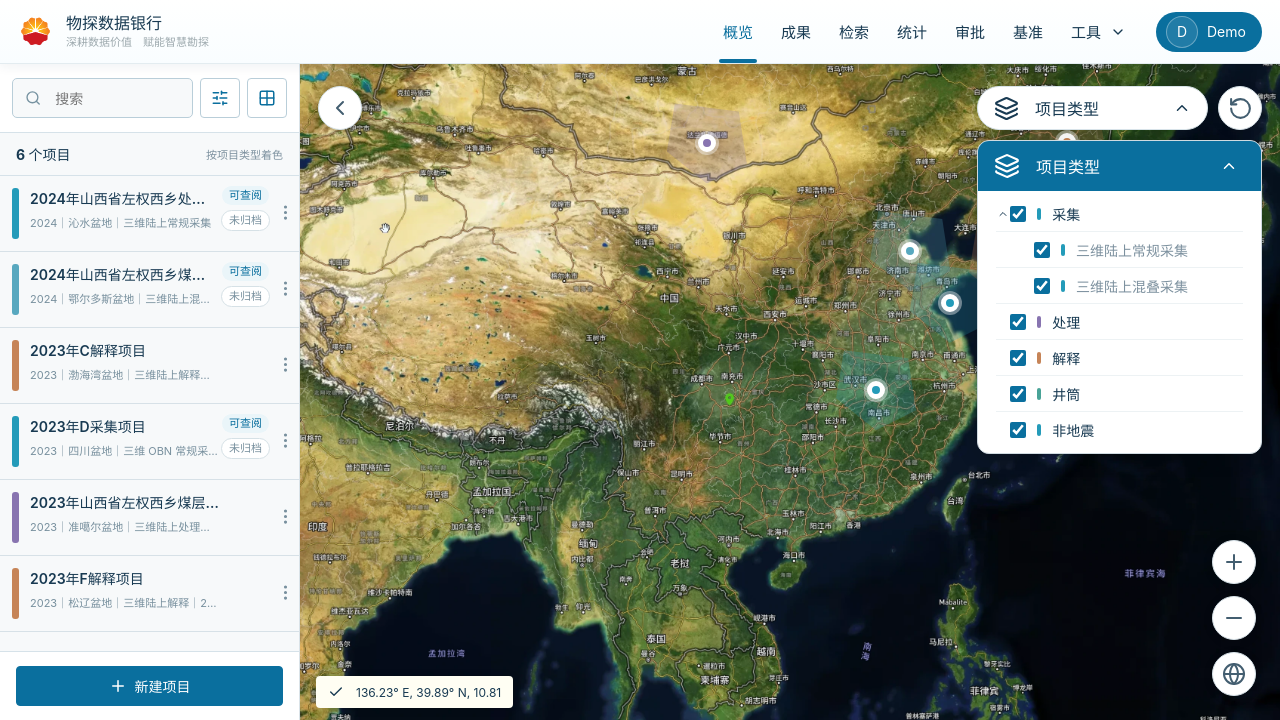
Scenario: 概览与跨页面流程 › 配色页及图层收起保持无卡片权限标签
Click the button named "配色方式" at (267, 98), box [247, 78, 287, 118]
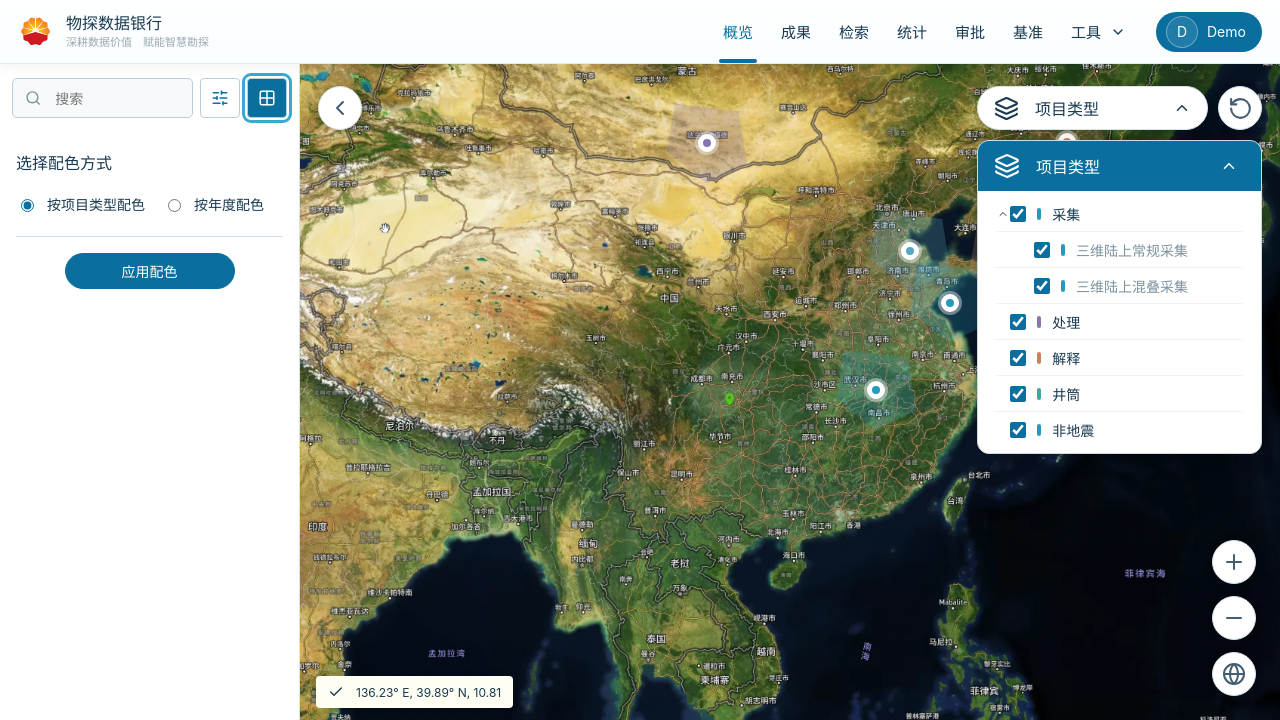
Result: the button "可查阅" is gone
Click the button named "收起项目类型" at (1229, 166), box [1213, 150, 1245, 182]
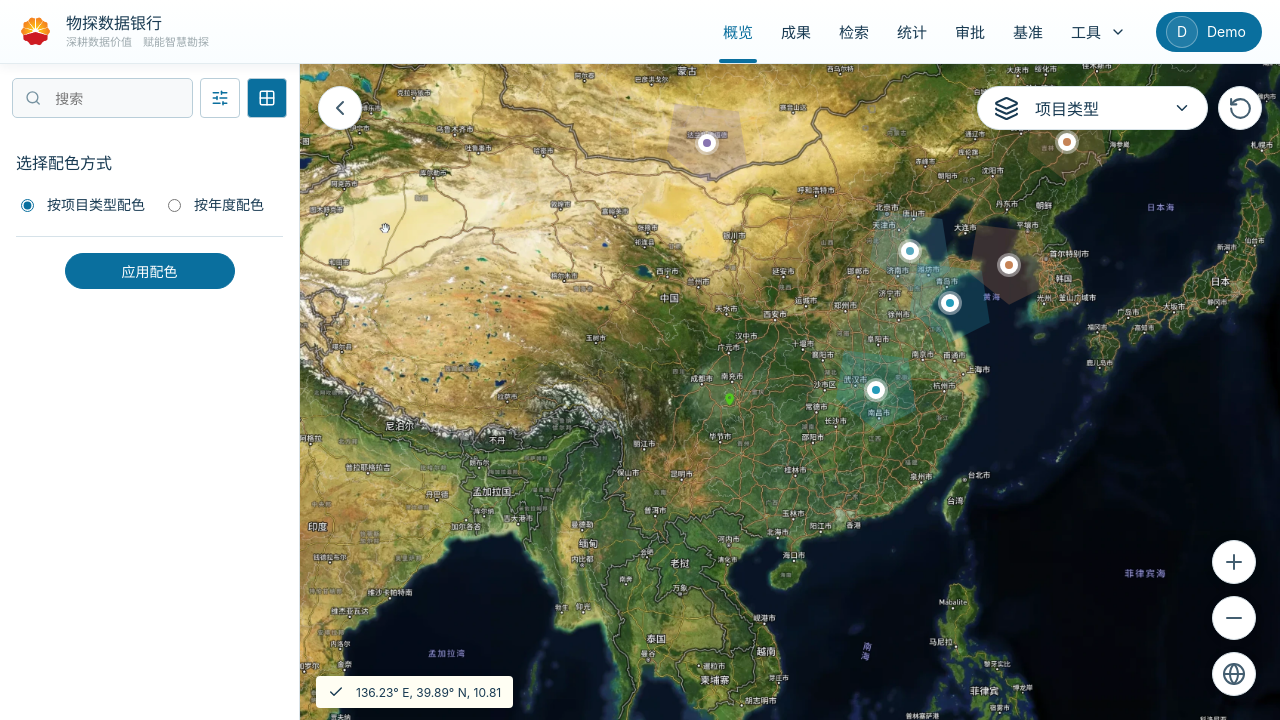
Expected: the button "可查阅" is not shown
Result: the label "采集" is gone
